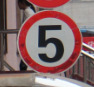speed_limit_5: (17, 10, 82, 73)
